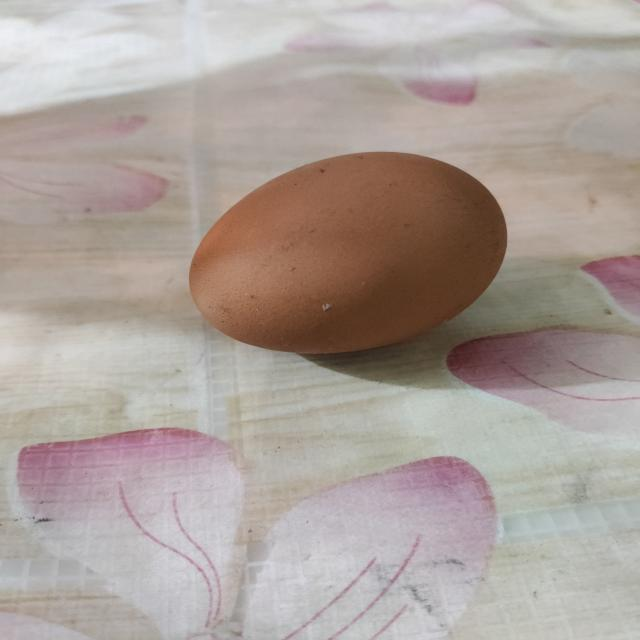egg: (184, 142, 516, 362)
